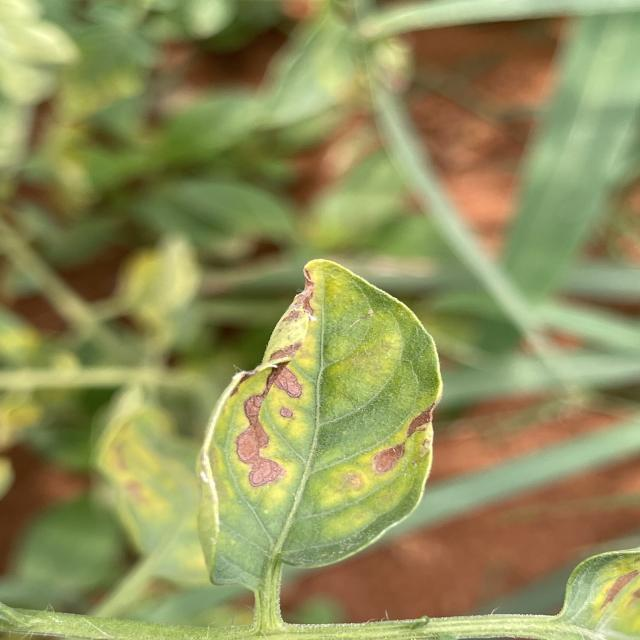tomato_early blight: (199, 256, 442, 598), (98, 378, 238, 604), (540, 545, 640, 640)
